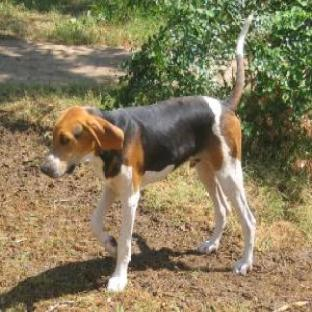Animal: (41, 14, 255, 290)
